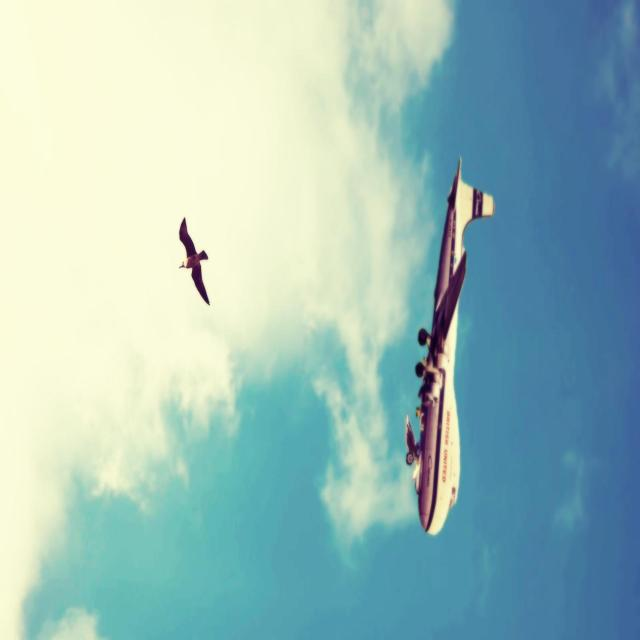airplane: (404, 154, 495, 536)
